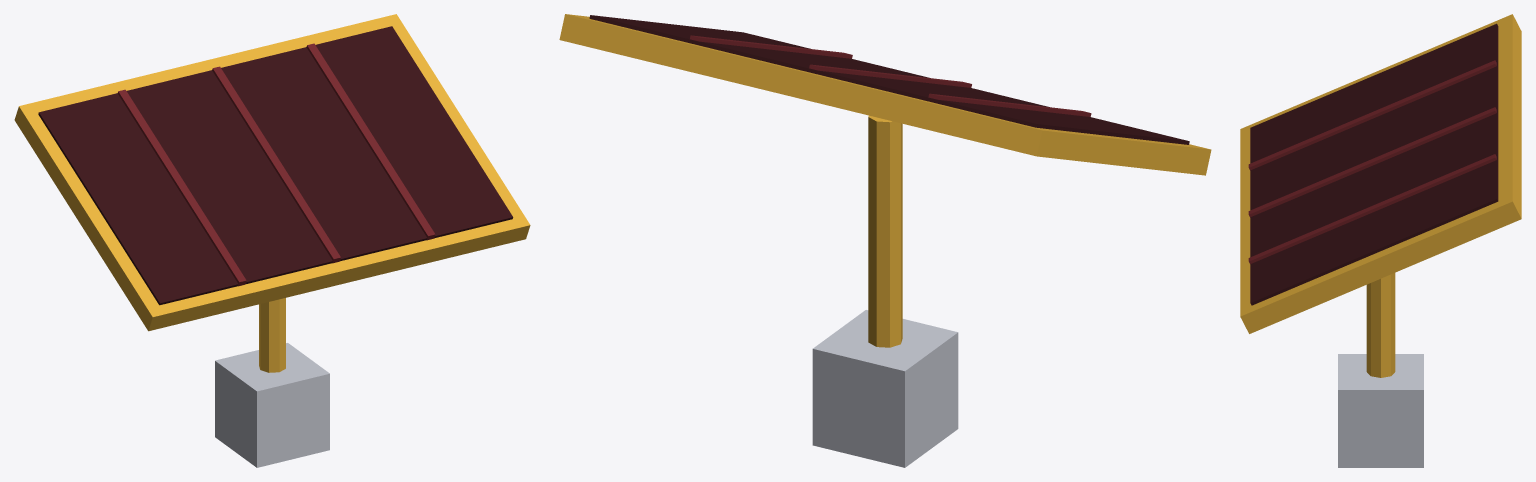
Rendered from painel-solar-n1.glb.
3 renders of one model, left to right at view 1: azimuth 30°, elevation 25°; view 2: azimuth 150°, elevation 25°; view 3: azimuth 270°, elevation 25°, orthographic. The views are drawn at different scales.
Visible parts, largest first — view 1: painel-solar-n1; view 2: painel-solar-n1; view 3: painel-solar-n1.
Part boxes in pixels (bbox=[...]): painel-solar-n1: bbox=[14, 14, 530, 467]; painel-solar-n1: bbox=[559, 14, 1211, 467]; painel-solar-n1: bbox=[1240, 14, 1521, 467].
Size of the model in its own units: 1.98 by 1.69 by 1.26.
